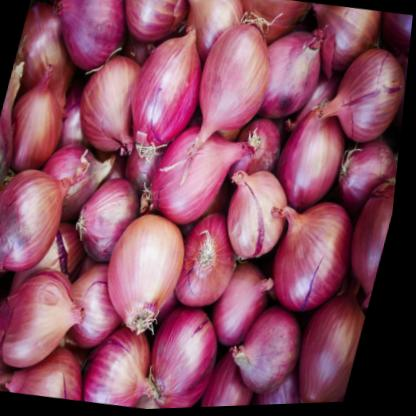onion: (256, 193, 382, 321), (113, 14, 221, 161), (93, 204, 204, 347), (188, 10, 295, 149), (0, 146, 90, 303), (306, 36, 412, 160), (145, 300, 246, 411), (211, 159, 305, 271)
